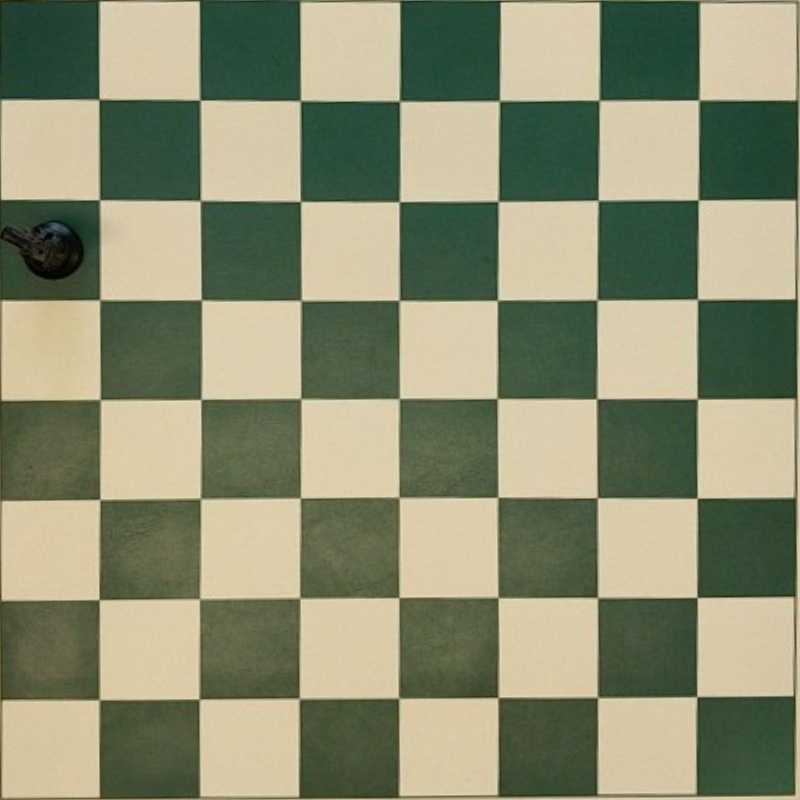black-knight: (0, 219, 83, 279)
